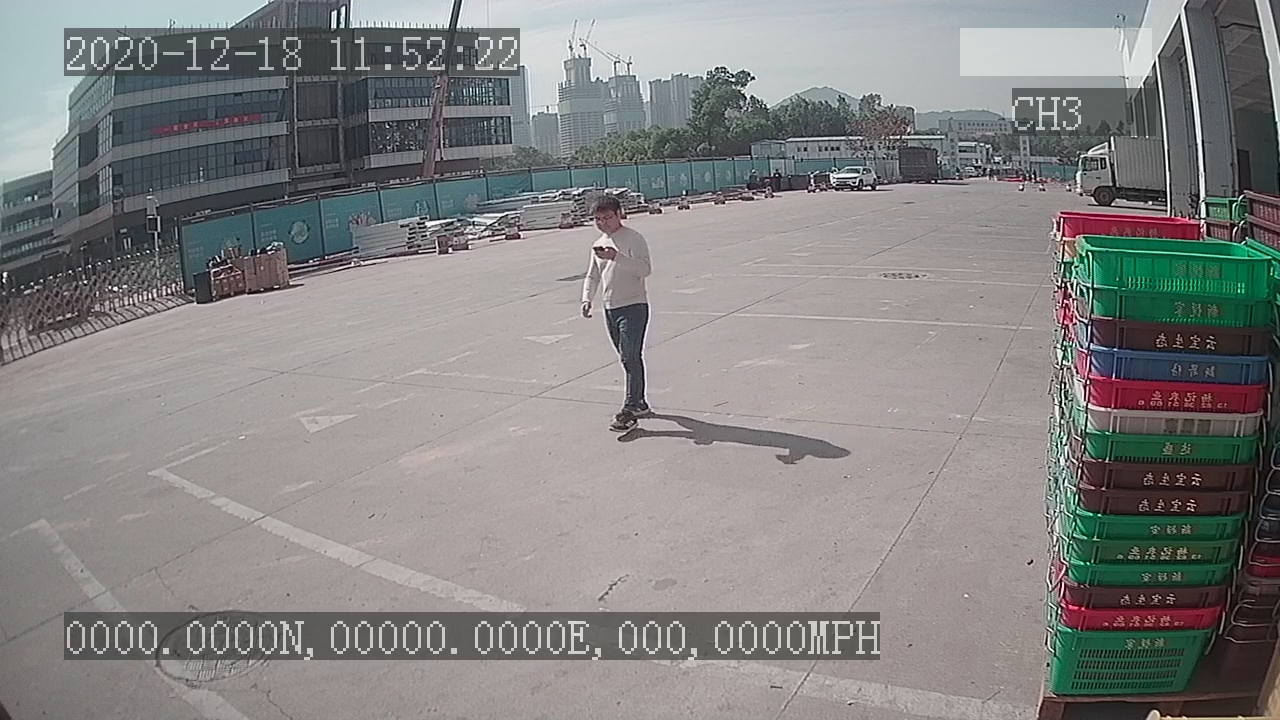person: (574, 194, 659, 440)
